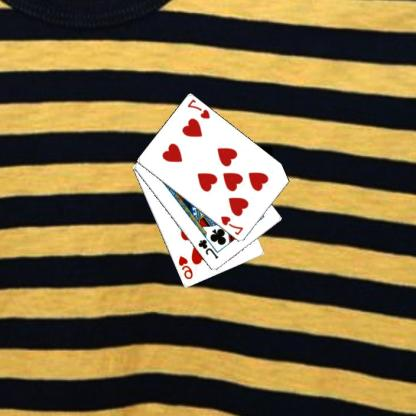7H: (220, 213, 246, 237), (186, 97, 212, 120)
9H: (177, 254, 196, 281)
JC: (197, 237, 221, 260)
